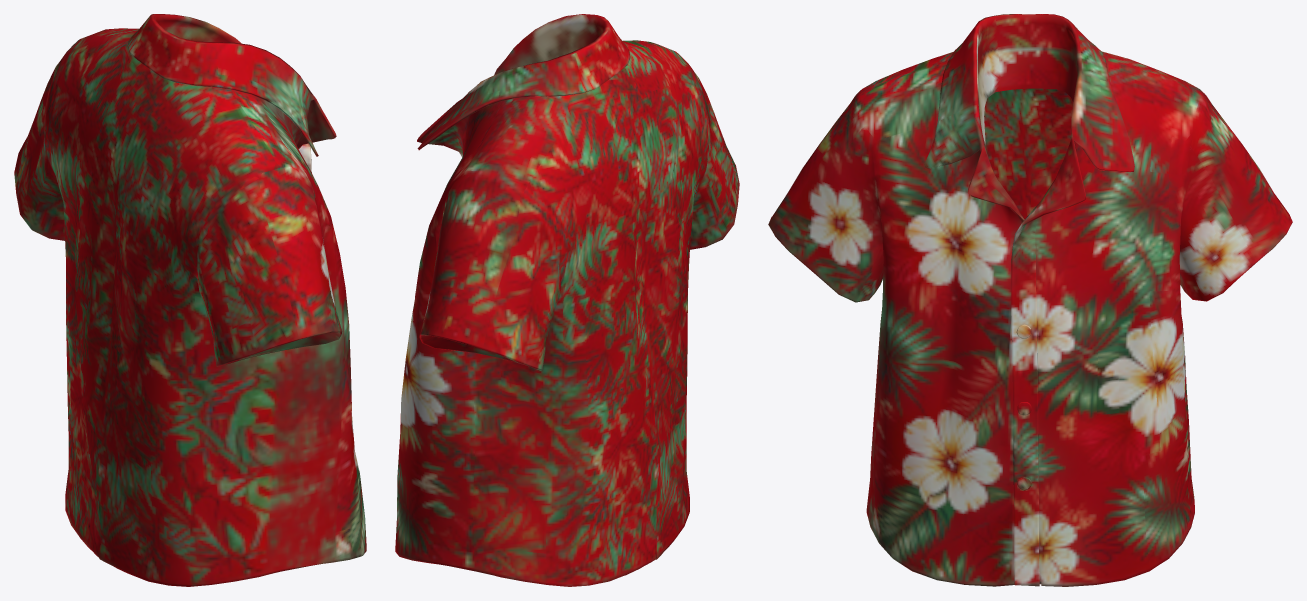
The model's file is camisa_estampada_vermelha_manga_curta.glb.
3 renders of one model, left to right at view 1: azimuth 30°, elevation 25°; view 2: azimuth 150°, elevation 25°; view 3: azimuth 270°, elevation 25°, orthographic. The views are drawn at different scales.
Visible parts, largest first — view 1: camisa_estampada_vermelha_manga_curta; view 2: camisa_estampada_vermelha_manga_curta; view 3: camisa_estampada_vermelha_manga_curta.
Part boxes in pixels (x1,y1,x2,y2): camisa_estampada_vermelha_manga_curta: (14, 14, 366, 586); camisa_estampada_vermelha_manga_curta: (395, 14, 739, 586); camisa_estampada_vermelha_manga_curta: (768, 14, 1292, 586).
Size of the model in its own units: 0.1621 by 0.3486 by 0.3311.
1 material, 1 textured.
